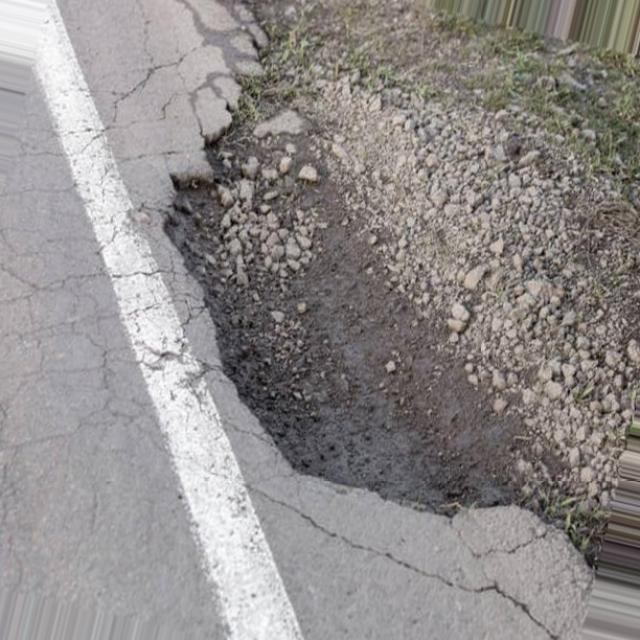Pinggir: (144, 16, 622, 549)
